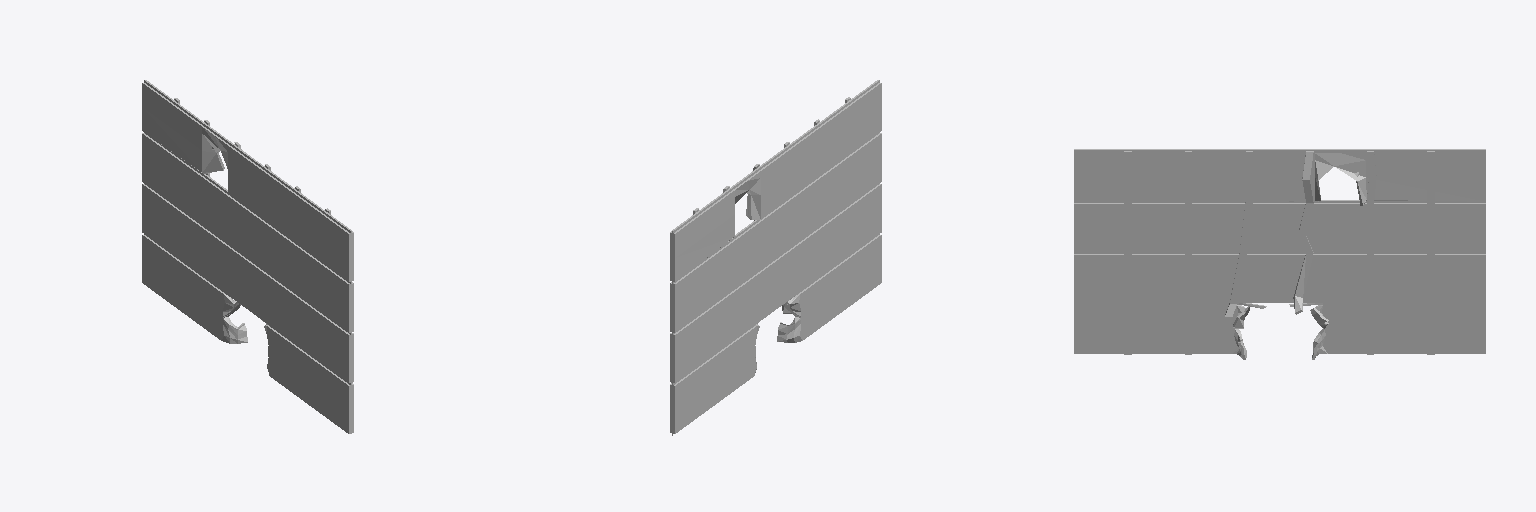
File: HugeDoor001.obj
The picture shows the model from 3 angles: view 1: azimuth 30°, elevation 25°; view 2: azimuth 150°, elevation 25°; view 3: azimuth 270°, elevation 25°; orthographic projection.
Visible parts, largest first — view 1: Cube_Cube.001, Cube.003_Cube.004, Cube.002_Cube.003; view 2: Cube_Cube.001, Cube.003_Cube.004, Cube.002_Cube.003; view 3: Cube_Cube.001, Cube.003_Cube.004, Cube.002_Cube.003, Cube.001_Cube.002.
Part boxes in pixels (left/top/right/bottom): Cube_Cube.001: left=142, top=133, right=353, bottom=382; Cube.003_Cube.004: left=142, top=80, right=353, bottom=281; Cube.002_Cube.003: left=142, top=234, right=353, bottom=433; Cube_Cube.001: left=670, top=133, right=881, bottom=382; Cube.003_Cube.004: left=670, top=80, right=881, bottom=281; Cube.002_Cube.003: left=670, top=234, right=881, bottom=435; Cube_Cube.001: left=1074, top=200, right=1485, bottom=302; Cube.003_Cube.004: left=1074, top=149, right=1485, bottom=205; Cube.002_Cube.003: left=1074, top=303, right=1485, bottom=359; Cube.001_Cube.002: left=1124, top=151, right=1434, bottom=354.
Size of the model in its own units: 0.721 by 6.77 by 12.37.